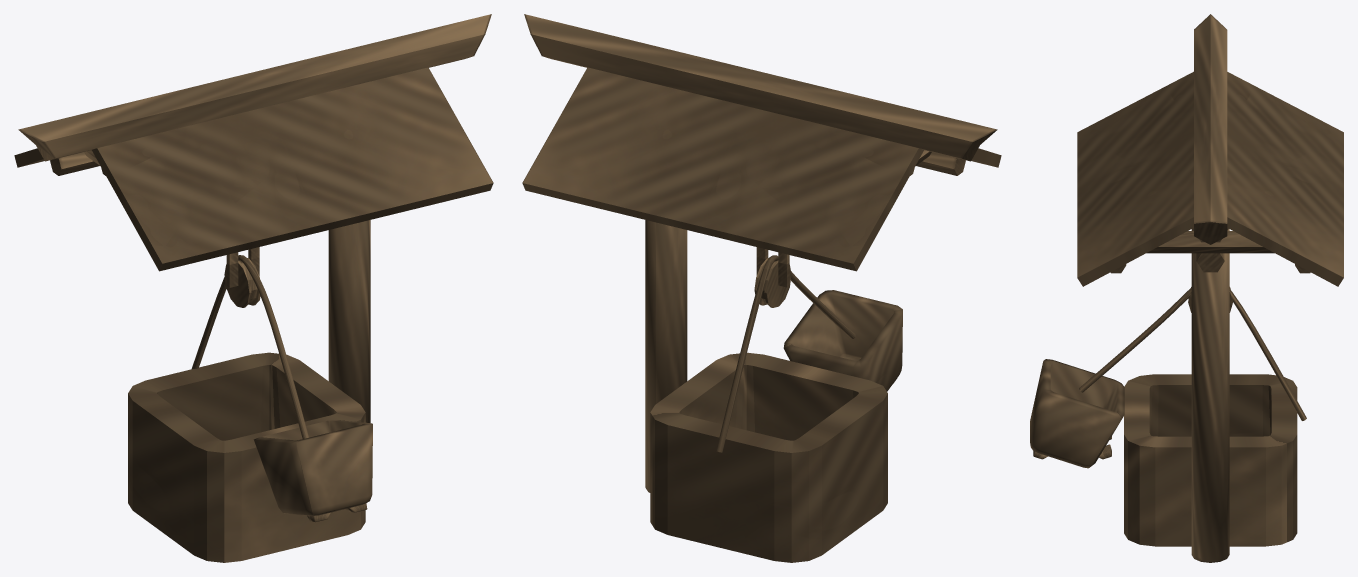
File: well.gltf
3 renders of one model, left to right at view 1: azimuth 30°, elevation 25°; view 2: azimuth 150°, elevation 25°; view 3: azimuth 270°, elevation 25°, orthographic. The views are drawn at different scales.
Parts seen in each view (by area): view 1: Plane.009, Cube.021, Cylinder.008, bucket, well, Vert, Cylinder.010, Cylinder.004, Plane.010; view 2: Plane.009, Cube.021, Cylinder.008, bucket, well, Vert, Cylinder.010, Cylinder.004, Plane.010; view 3: Plane.009, Cube.021, well, bucket, Cylinder.008, Vert, Cylinder.007, Cylinder.003.
Boxes of the visible parts, x1,y1,x2,y2 form: Plane.009: [14, 67, 493, 271]; Cube.021: [128, 352, 365, 562]; Cylinder.008: [18, 14, 491, 161]; bucket: [253, 420, 372, 515]; well: [328, 220, 370, 422]; Vert: [191, 255, 308, 438]; Cylinder.010: [224, 258, 260, 307]; Cylinder.004: [50, 152, 99, 175]; Plane.010: [226, 247, 259, 287]; Plane.009: [522, 67, 1001, 271]; Cube.021: [650, 352, 887, 562]; Cylinder.008: [524, 14, 997, 161]; bucket: [783, 290, 902, 391]; well: [645, 220, 687, 492]; Vert: [716, 255, 855, 452]; Cylinder.010: [754, 258, 791, 307]; Cylinder.004: [916, 152, 965, 175]; Plane.010: [756, 247, 789, 287]; Plane.009: [1077, 71, 1343, 286]; Cube.021: [1124, 374, 1297, 546]; well: [1191, 228, 1229, 562]; bucket: [1030, 359, 1124, 468]; Cylinder.008: [1194, 14, 1227, 244]; Vert: [1079, 287, 1306, 420]; Cylinder.007: [1146, 231, 1274, 253]; Cylinder.003: [1196, 253, 1224, 272].
Size of the model in its own units: 9.02 by 7.98 by 5.75.
Materials: 2 (2 with a texture image).
